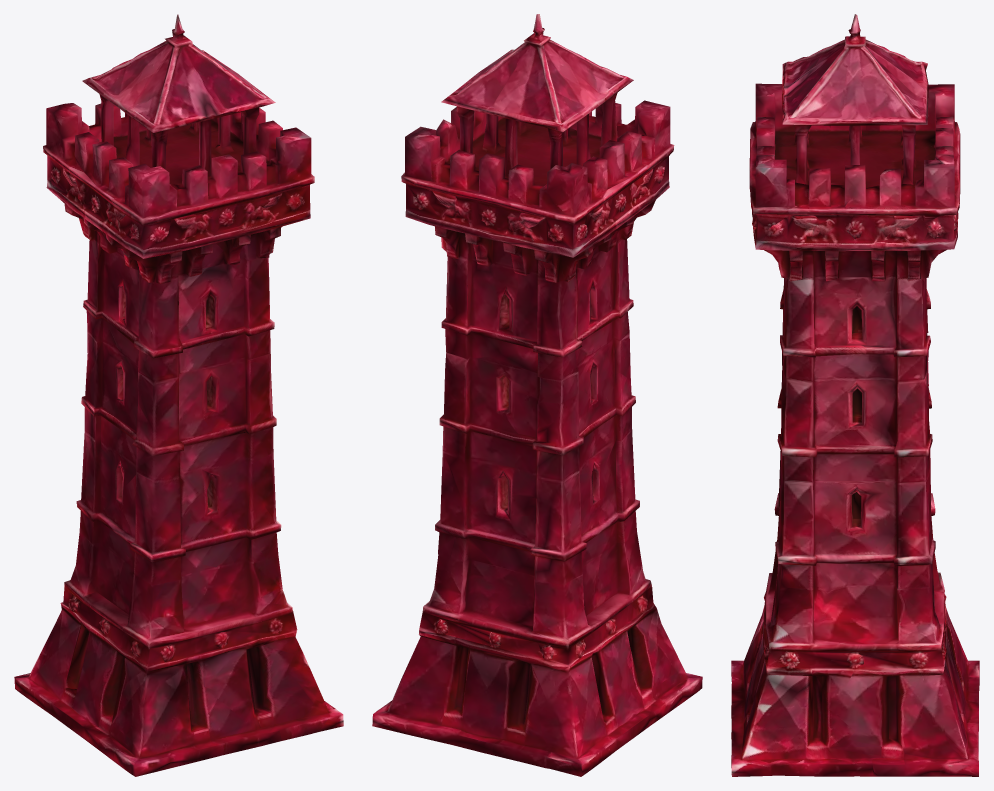
The model's file is castle_tower_tall_diamond_red.glb.
3 renders of one model, left to right at view 1: azimuth 30°, elevation 25°; view 2: azimuth 150°, elevation 25°; view 3: azimuth 270°, elevation 25°, orthographic. The views are drawn at different scales.
Parts seen in each view (by area): view 1: tripo_node_2ba38783-6ae2-4529-9e9c-0c915b8a8065; view 2: tripo_node_2ba38783-6ae2-4529-9e9c-0c915b8a8065; view 3: tripo_node_2ba38783-6ae2-4529-9e9c-0c915b8a8065.
Part boxes in pixels (x1,y1,x2,y2): tripo_node_2ba38783-6ae2-4529-9e9c-0c915b8a8065: (14, 14, 343, 776); tripo_node_2ba38783-6ae2-4529-9e9c-0c915b8a8065: (372, 14, 702, 776); tripo_node_2ba38783-6ae2-4529-9e9c-0c915b8a8065: (731, 14, 979, 776).
Size of the model in its own units: 0.3107 by 0.976 by 0.3097.
1 material, 1 textured.
